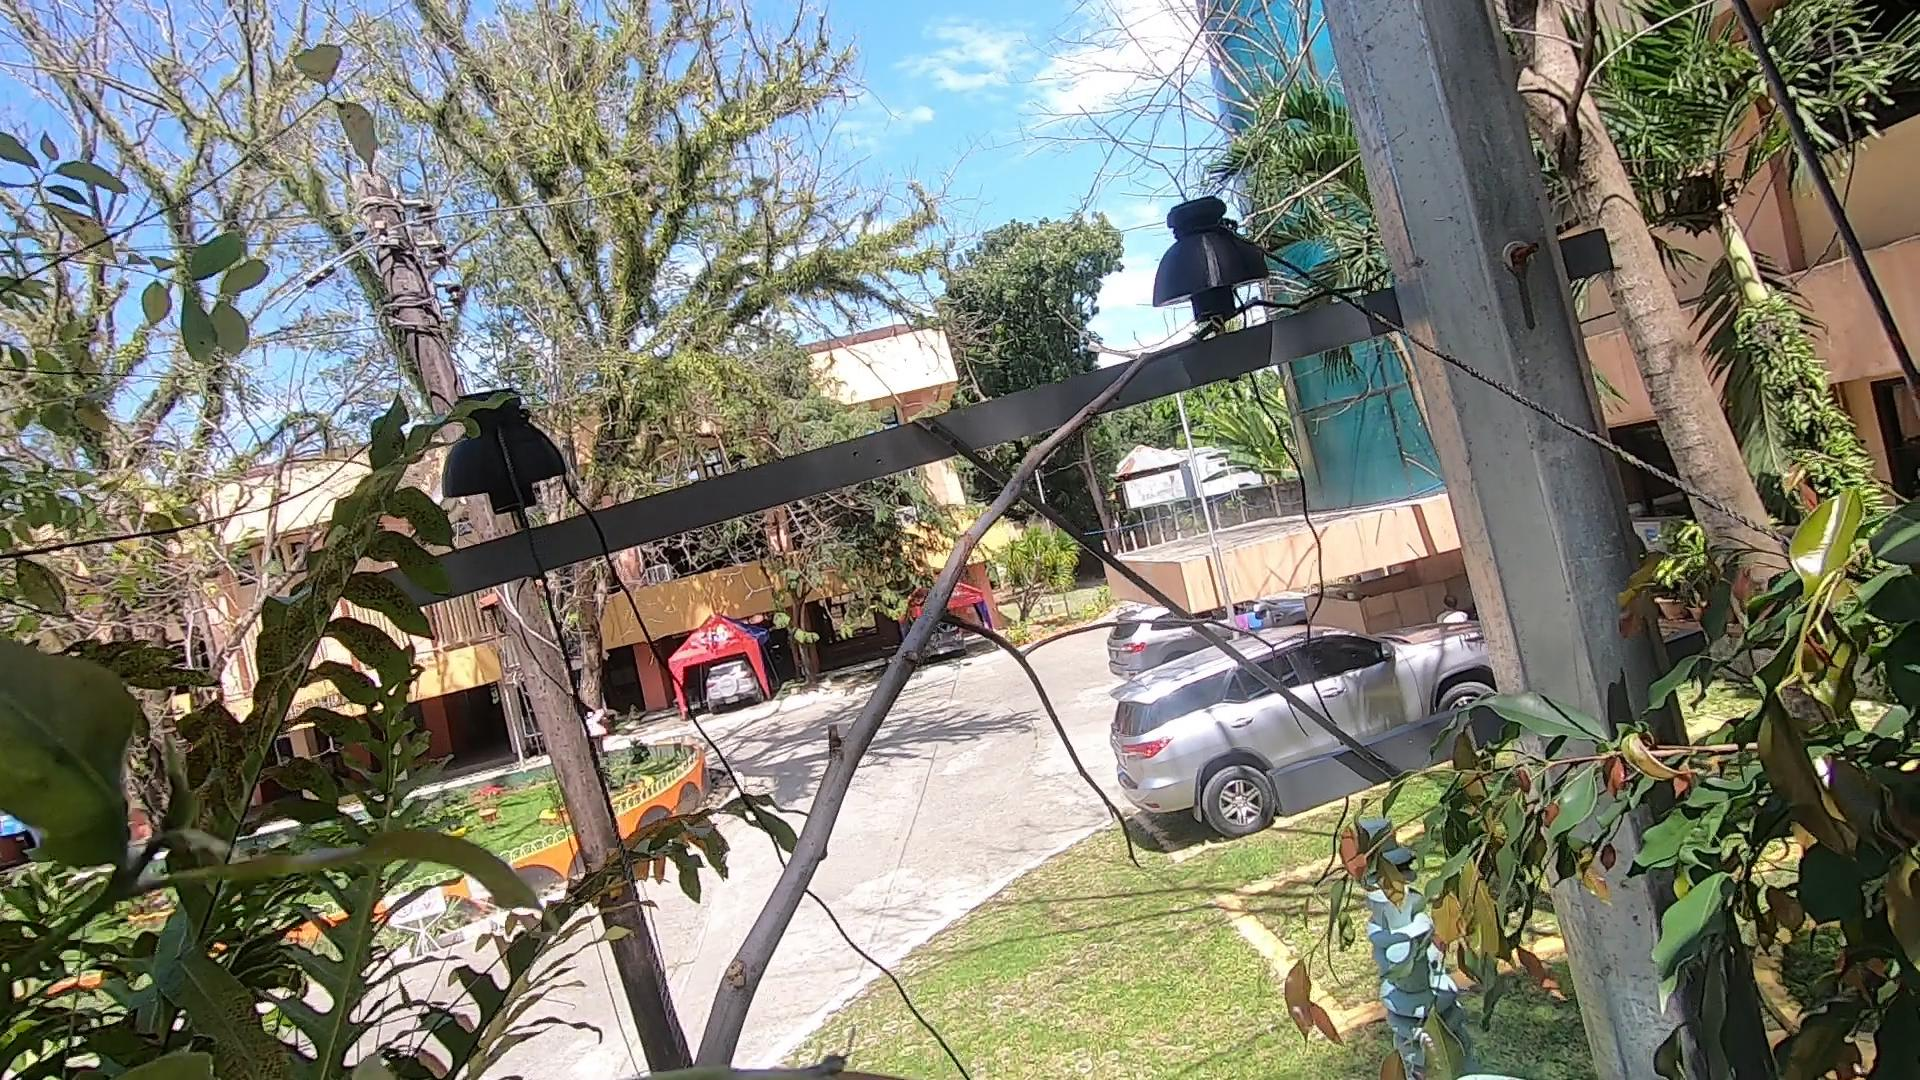branch with leaves: (1216, 688, 1553, 1080)
tree branch: (655, 229, 1337, 1080)
